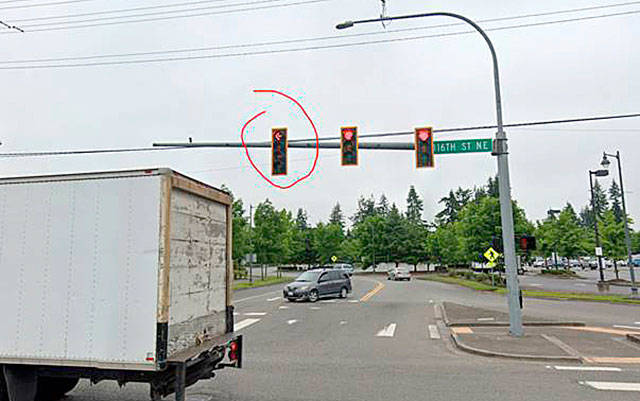red: (414, 126, 434, 168), (271, 127, 288, 175), (340, 126, 358, 166), (520, 235, 536, 250)
